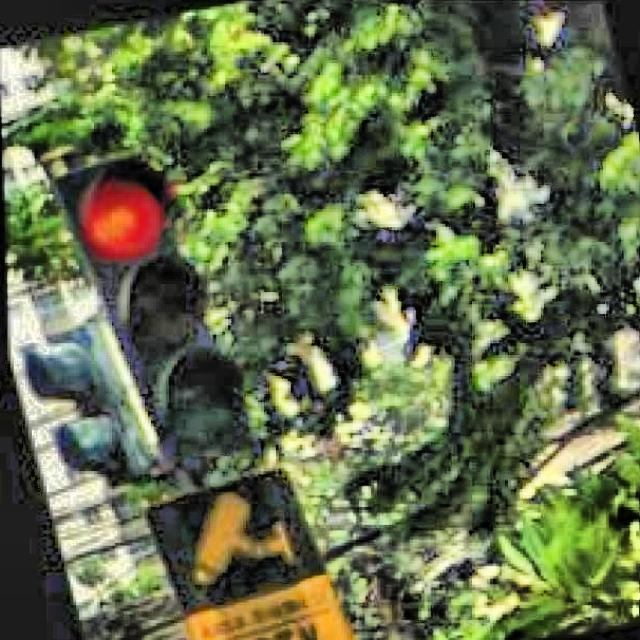red: (56, 164, 252, 448)
